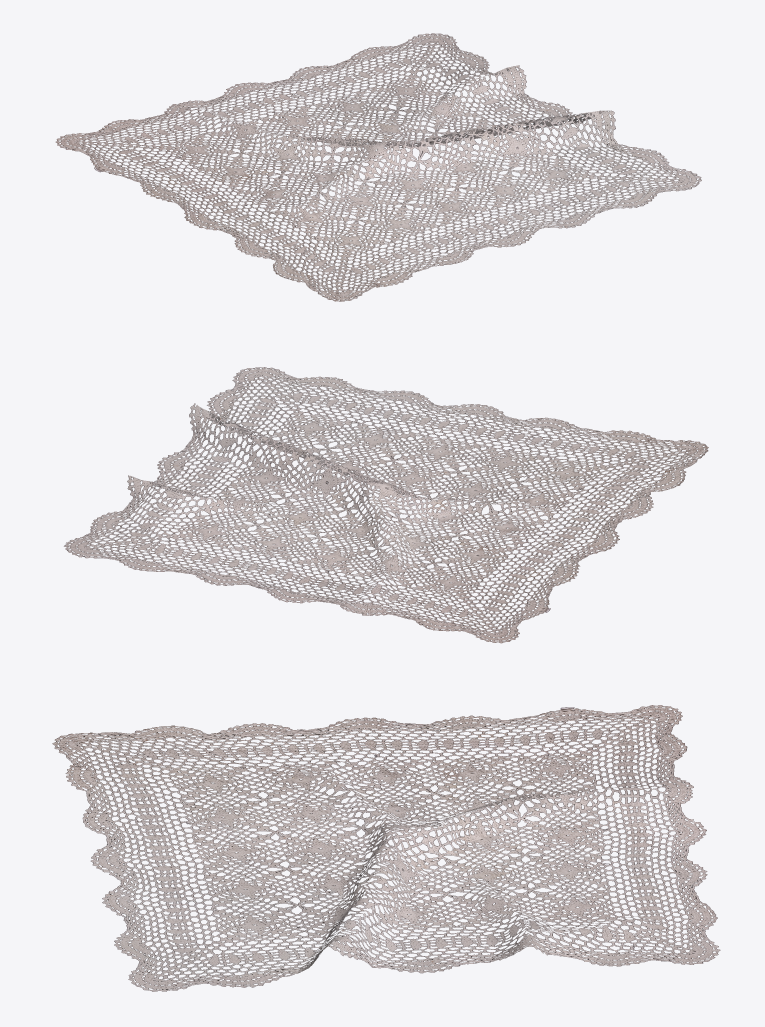
Rendered from fabric_lace1.fbx.
The picture shows the model from 3 angles, top to bottom: view 1: azimuth 30°, elevation 25°; view 2: azimuth 150°, elevation 25°; view 3: azimuth 270°, elevation 25°; orthographic projection. The views are drawn at different scales.
Visible parts, largest first — view 1: fabric_lace1; view 2: fabric_lace1; view 3: fabric_lace1.
Part boxes in pixels (bbox=[...]): fabric_lace1: bbox=[55, 33, 701, 301]; fabric_lace1: bbox=[64, 367, 708, 643]; fabric_lace1: bbox=[52, 705, 720, 991].
Bounding box in the file's own units: 29.53 × 1.41 × 28.36.
Materials: 1 (1 with a texture image).
